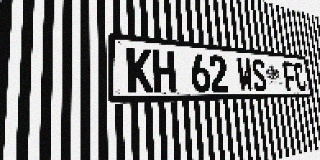2: (209, 54, 229, 92)
6: (190, 53, 211, 92)
C: (293, 62, 307, 91)
F: (282, 61, 297, 91)
H: (152, 49, 177, 93)
K: (126, 47, 153, 93)
S: (250, 58, 268, 91)
W: (236, 57, 254, 92)
